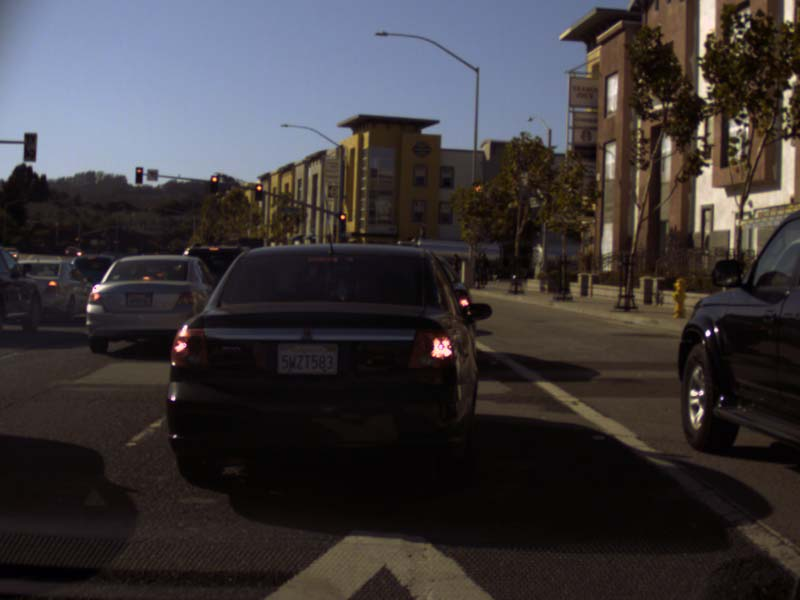Red: (254, 183, 263, 199), (338, 213, 346, 230), (135, 167, 142, 183), (211, 175, 217, 191)
